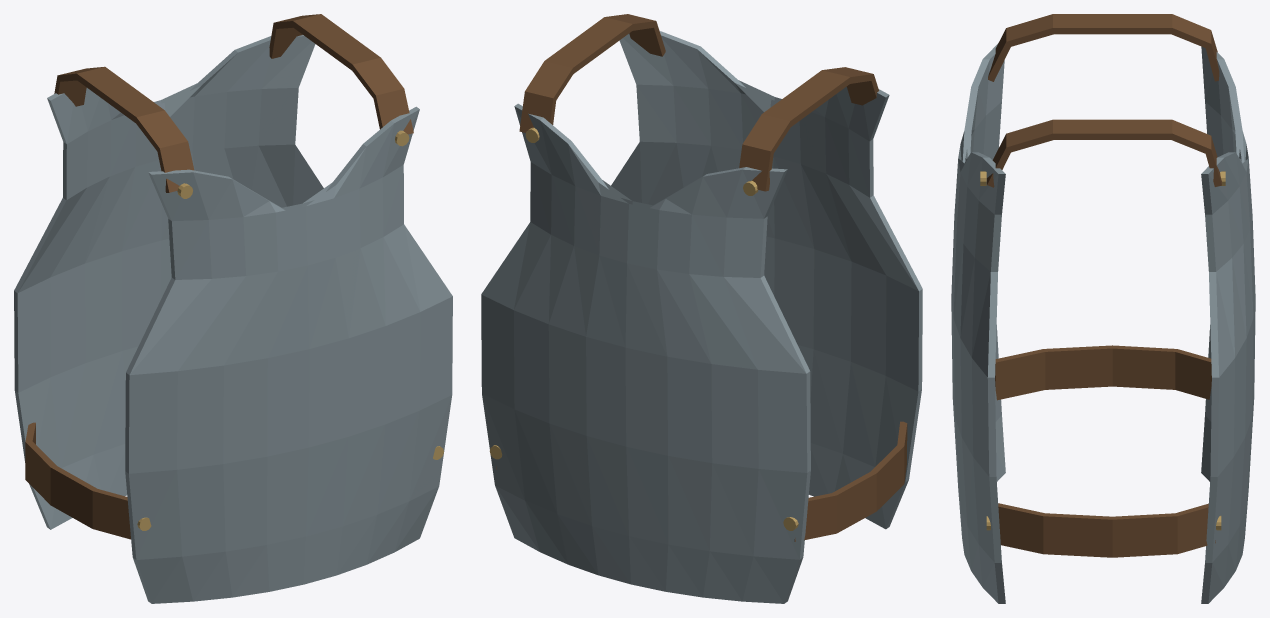
The picture shows the model from 3 angles, left to right: view 1: azimuth 30°, elevation 25°; view 2: azimuth 150°, elevation 25°; view 3: azimuth 270°, elevation 25°; orthographic projection.
Parts seen in each view (by area): view 1: WholeShapedBreastplate, WholeShapedBackplate, WholeShoulderBridge1, WholeShoulderBridge-1, WholeWaistSideBand-1; view 2: WholeShapedBackplate, WholeShapedBreastplate, WholeShoulderBridge1, WholeShoulderBridge-1, WholeWaistSideBand-1; view 3: WholeShapedBreastplate, WholeShapedBackplate, WholeWaistSideBand-1, WholeWaistSideBand1, WholeShoulderBridge-1, WholeShoulderBridge1.
Boxes of the visible parts, x1,y1,x2,y2 form: WholeShapedBreastplate: [125, 106, 452, 603]; WholeShapedBackplate: [14, 35, 323, 529]; WholeShoulderBridge1: [269, 14, 413, 134]; WholeShoulderBridge-1: [54, 66, 194, 192]; WholeWaistSideBand-1: [25, 422, 130, 539]; WholeShapedBackplate: [481, 103, 810, 603]; WholeShapedBreastplate: [611, 31, 922, 529]; WholeShoulderBridge1: [519, 14, 665, 132]; WholeShoulderBridge-1: [739, 67, 878, 191]; WholeWaistSideBand-1: [794, 421, 907, 541]; WholeShapedBreastplate: [951, 44, 1005, 603]; WholeShapedBackplate: [1201, 46, 1255, 603]; WholeWaistSideBand-1: [995, 345, 1211, 400]; WholeWaistSideBand1: [998, 503, 1215, 557]; WholeShoulderBridge-1: [988, 14, 1219, 81]; WholeShoulderBridge1: [987, 119, 1221, 187].
Bounding box in the file's own units: 0.452 × 0.562 × 0.3336.
